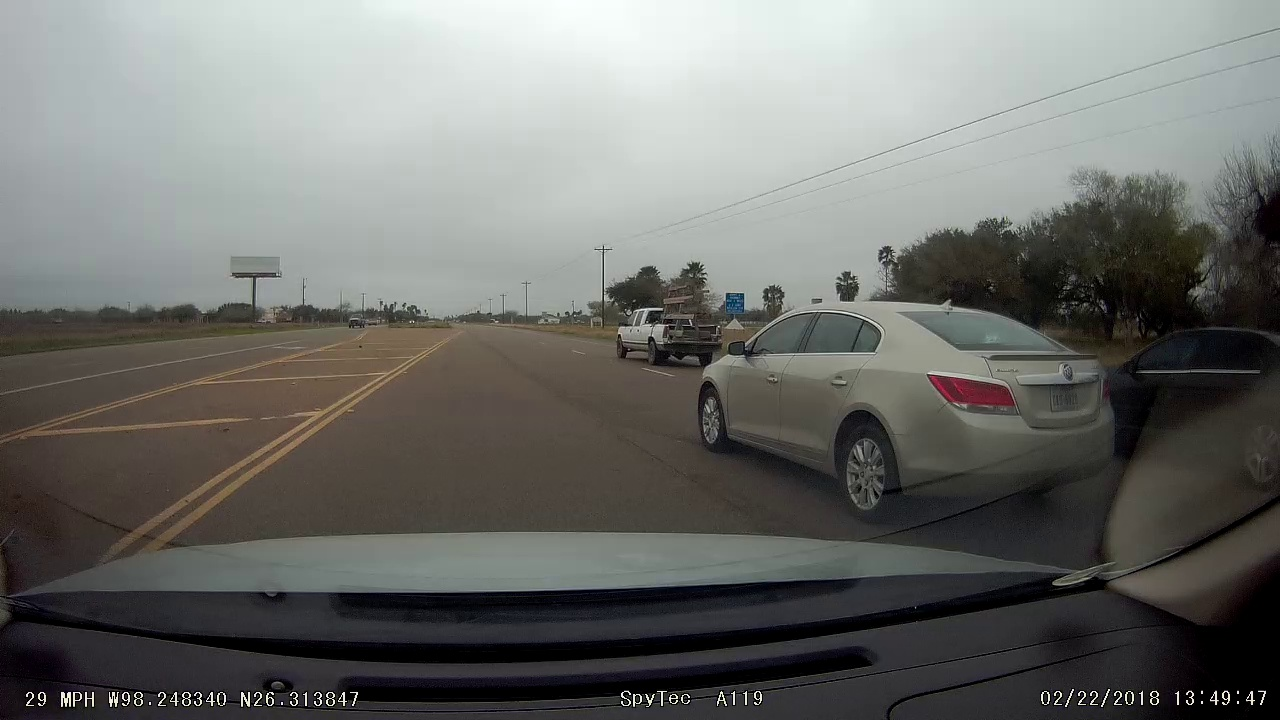crack: (597, 423, 735, 506)
